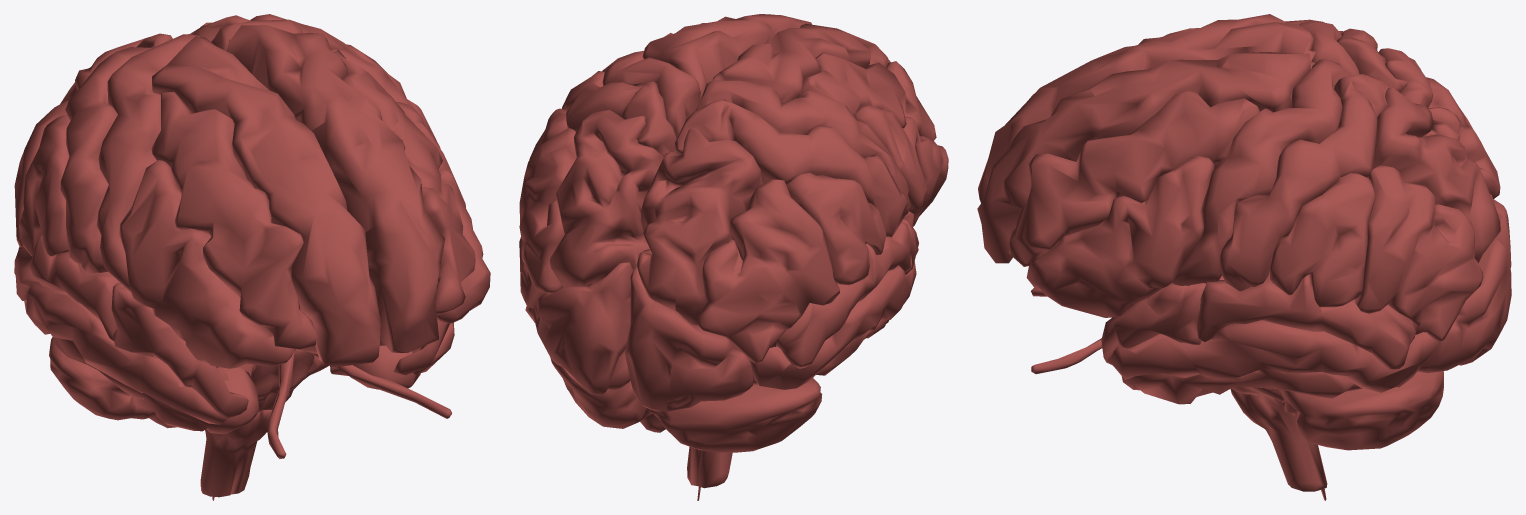
File: nervous.glb
3 renders of one model, left to right at view 1: azimuth 30°, elevation 25°; view 2: azimuth 150°, elevation 25°; view 3: azimuth 270°, elevation 25°, orthographic. The views are drawn at different scales.
Visible parts, largest first — view 1: FMA72653, FMA72654, FMA72655, FMA72701, FMA72661, FMA72665, FMA72685, FMA72656, FMA72800, FMA72667, FMA72804, FMA67944 (+12 smaller); view 2: FMA72669, BP50, BP49, FMA72975, FMA67944, FMA72665, FMA72976, FMA72653, FMA72667, FMA72661, FMA72670, FMA72654 (+9 smaller); view 3: FMA72654, FMA72656, FMA72702, FMA72670, FMA72666, FMA72686, FMA72662, FMA72653, FMA72668, BP49, FMA72805, FMA67944 (+8 smaller).
Part boxes in pixels (x1,y1,x2,y2): FMA72653: (152, 36, 380, 367); FMA72654: (226, 25, 444, 352); FMA72655: (151, 91, 316, 349); FMA72701: (119, 160, 294, 368); FMA72661: (97, 34, 199, 291); FMA72665: (60, 33, 172, 273); FMA72685: (24, 282, 226, 424); FMA72656: (334, 50, 475, 315); FMA72800: (111, 282, 248, 418); FMA72667: (19, 115, 70, 256); FMA72804: (14, 233, 119, 340); FMA67944: (49, 337, 328, 428); FMA72669: (697, 179, 839, 363); BP50: (636, 128, 763, 325); BP49: (550, 110, 663, 287); FMA72975: (625, 265, 753, 411); FMA67944: (550, 358, 822, 452); FMA72665: (675, 99, 907, 237); FMA72976: (532, 262, 633, 395); FMA72653: (712, 23, 890, 103); FMA72667: (786, 173, 886, 285); FMA72661: (695, 80, 910, 214); FMA72670: (519, 128, 576, 307); FMA72654: (642, 14, 811, 99); FMA72654: (977, 52, 1314, 263); FMA72656: (1009, 90, 1259, 266); FMA72702: (1026, 156, 1214, 317); FMA72670: (1355, 165, 1483, 340); FMA72666: (1220, 74, 1389, 291); FMA72686: (1109, 320, 1439, 392); FMA72662: (1172, 59, 1349, 285); FMA72653: (978, 14, 1315, 203); FMA72668: (1270, 173, 1375, 307); BP49: (1367, 88, 1500, 263); FMA72805: (1197, 270, 1415, 369); FMA67944: (1281, 371, 1443, 450).
Size of the model in its own units: 0.1332 by 0.1621 by 0.17.
